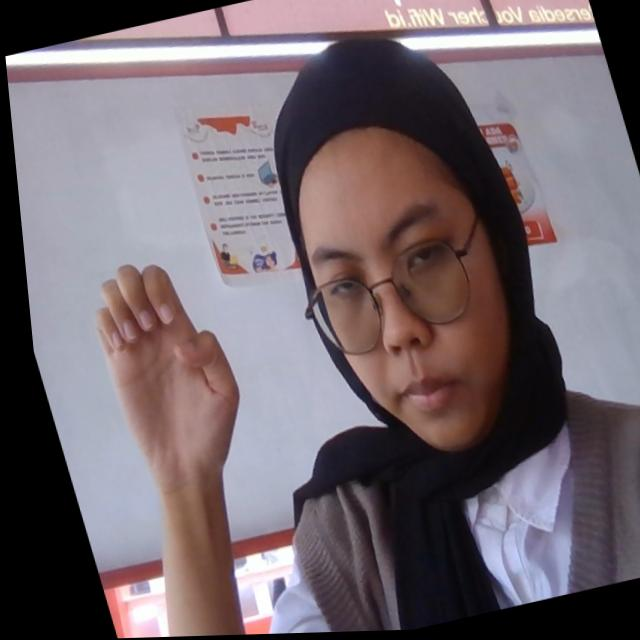E: (73, 247, 253, 490)
